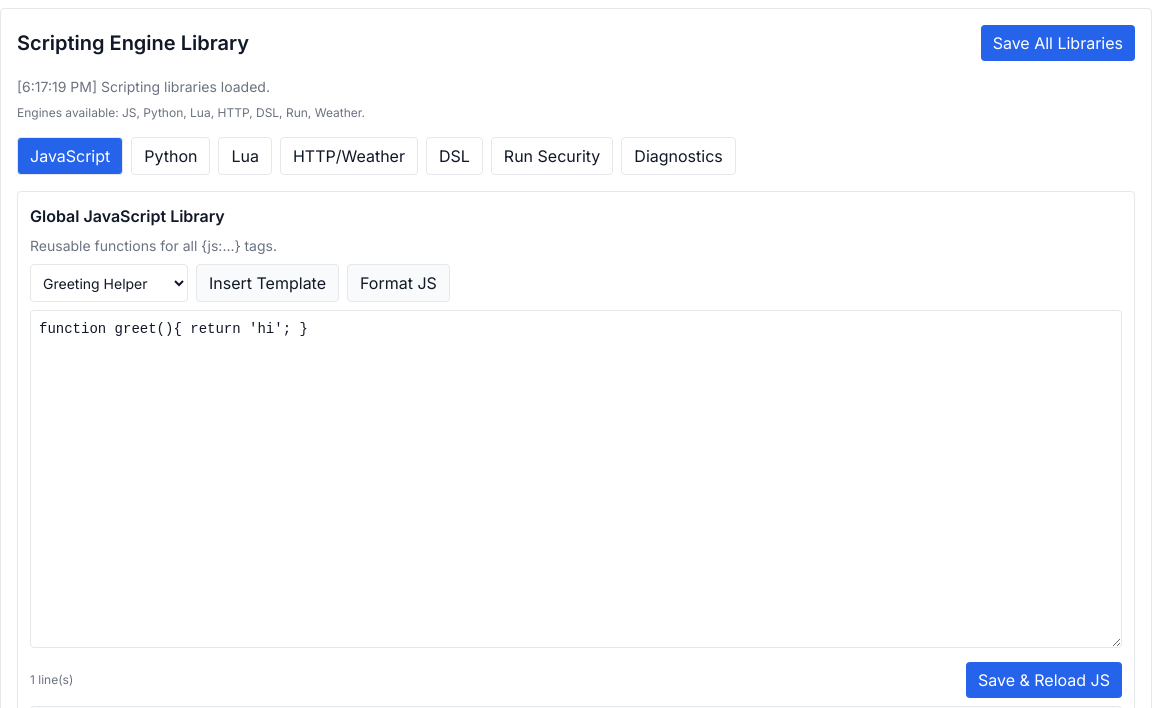
ScriptTab sub-tabs › blocks saving when validation errors exist
expect the heading "Scripting Engine Library" is shown: met, box [17,29,249,57]
Click the button "Python".
click(171, 156)  # box [131,137,210,175]
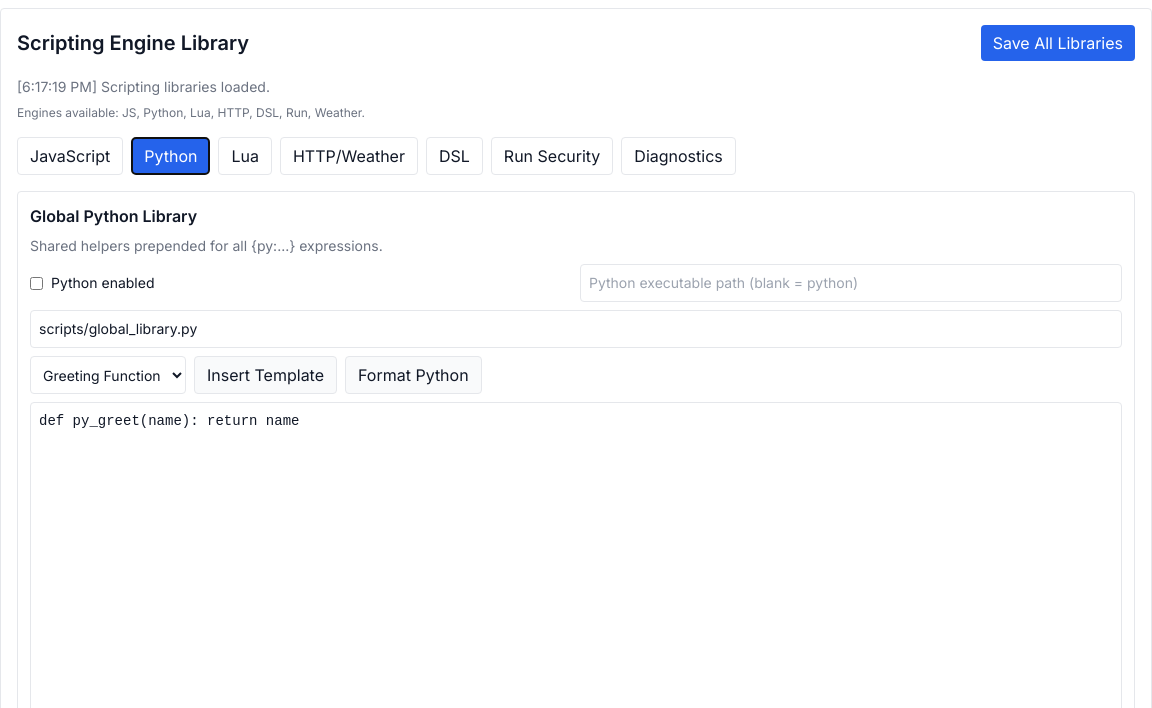
Replace the text in the field with placeholder "Python global library path" with "scripts/library.txt" at (576, 329), box [30,310,1122,348]
(page scrolled)
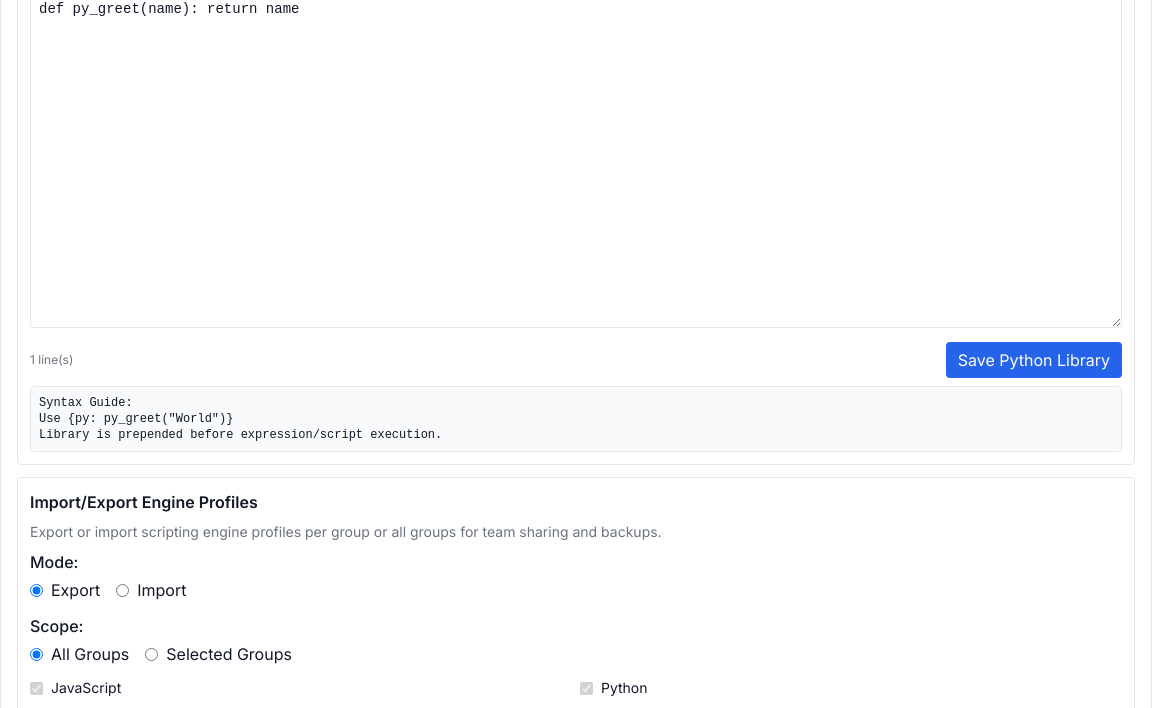
expect the button "Save Python Library" is disabled: met, box [946,342,1122,378]
